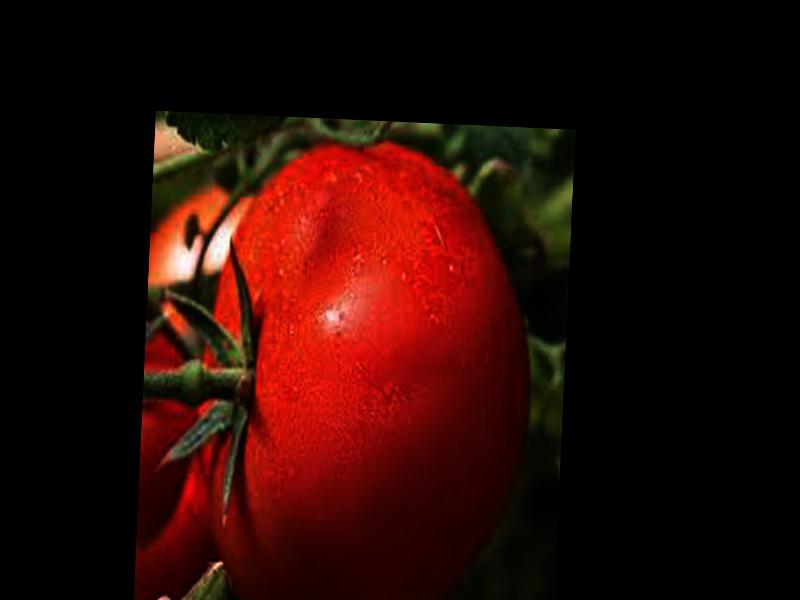Tomato: (190, 135, 537, 600)
